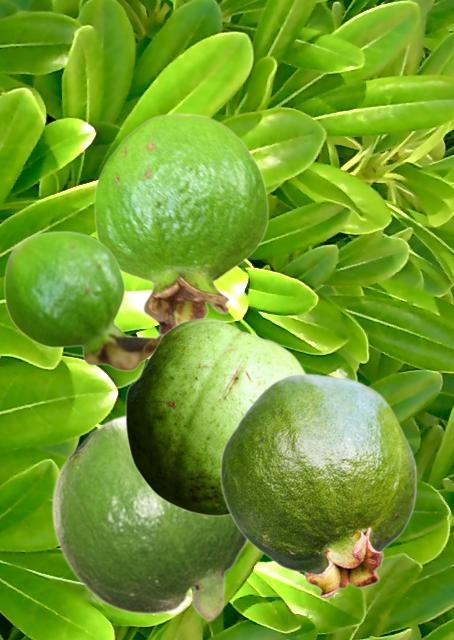guava: (219, 373, 416, 598), (50, 414, 248, 622), (93, 112, 268, 333), (125, 318, 306, 515), (3, 230, 162, 371)
